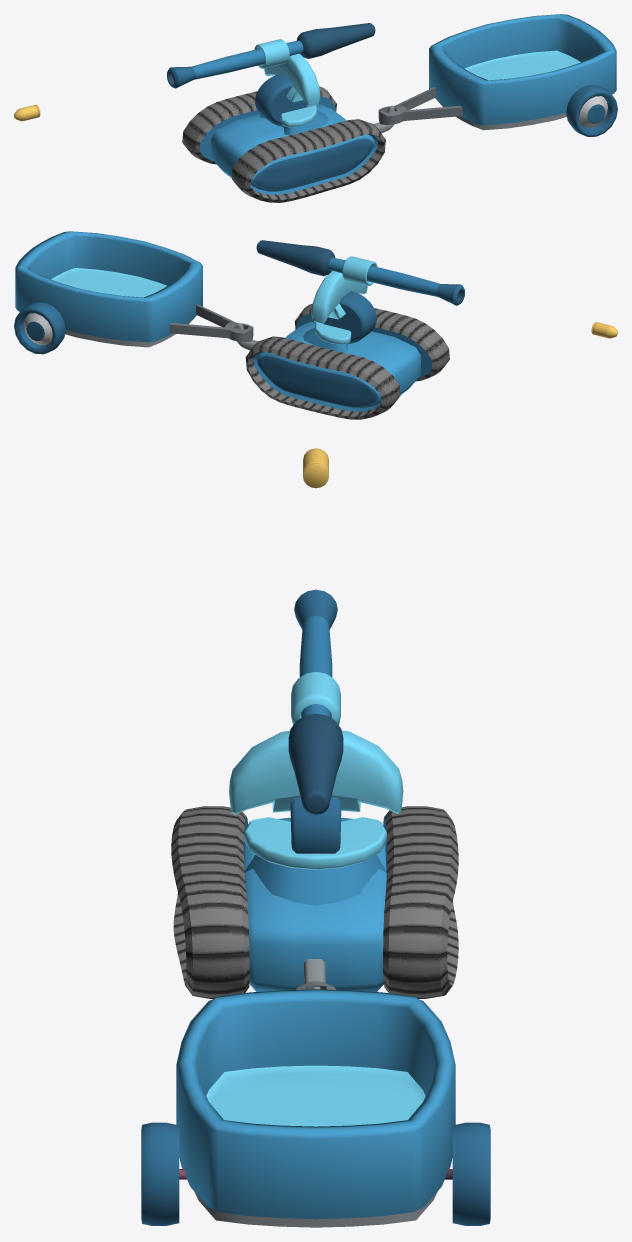
Rendered from UcakSavarOyun.fbx.
The picture shows the model from 3 angles, top to bottom: view 1: azimuth 30°, elevation 25°; view 2: azimuth 150°, elevation 25°; view 3: azimuth 270°, elevation 25°; orthographic projection. The views are drawn at different scales.
Visible parts, largest first — view 1: Romork, Arac, Silah, Taret, Mermi; view 2: Romork, Arac, Silah, Taret, Mermi; view 3: Romork, Arac, Taret, Silah.
Part boxes in pixels (x1,y1,x2,y2): Romork: (378, 14, 617, 136); Arac: (182, 86, 394, 202); Silah: (167, 23, 375, 88); Taret: (255, 53, 320, 126); Mermi: (14, 104, 40, 121); Romork: (14, 231, 253, 354); Arac: (236, 303, 449, 419); Silah: (256, 240, 464, 305); Taret: (311, 270, 376, 343); Mermi: (591, 322, 617, 338); Romork: (141, 981, 490, 1227); Arac: (171, 806, 458, 998); Taret: (229, 730, 403, 853); Silah: (288, 589, 343, 814).
Size of the model in its own units: 12.92 by 2.81 by 3.34.
